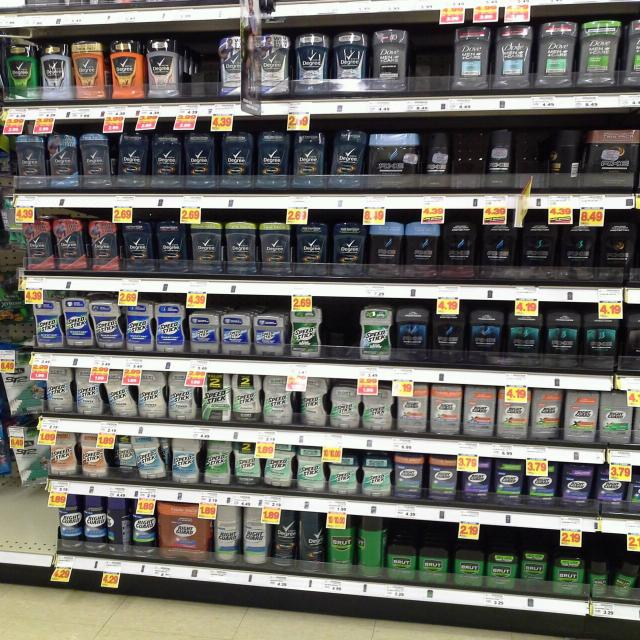unorganised: (398, 308, 464, 366), (113, 439, 167, 482), (529, 391, 565, 445), (356, 515, 386, 578), (298, 511, 328, 573), (87, 304, 125, 350), (103, 370, 137, 418), (552, 131, 581, 187), (201, 441, 233, 488), (297, 381, 329, 426), (106, 499, 129, 558), (521, 551, 552, 593), (609, 565, 637, 601)
